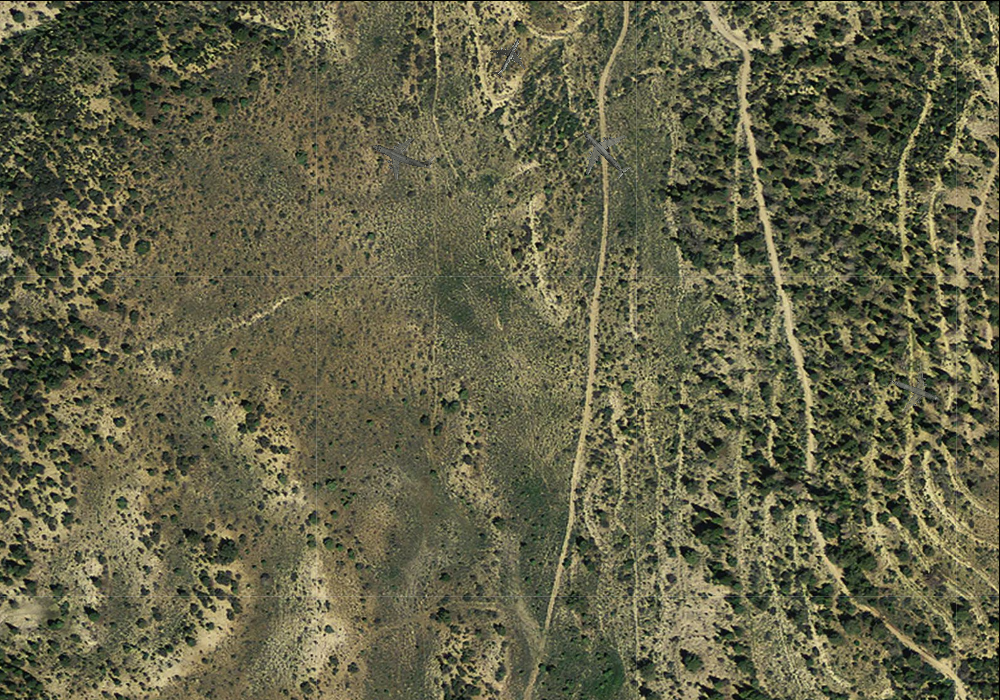plane: (563, 111, 645, 193), (363, 117, 443, 193), (879, 355, 949, 423), (479, 28, 536, 86)
